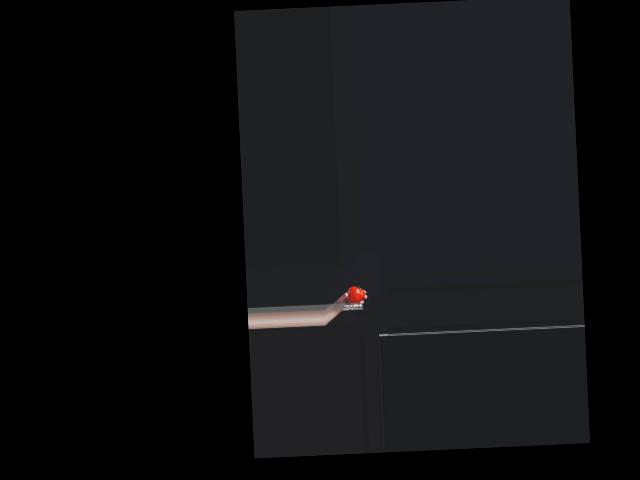tomato: (346, 285, 365, 304)
